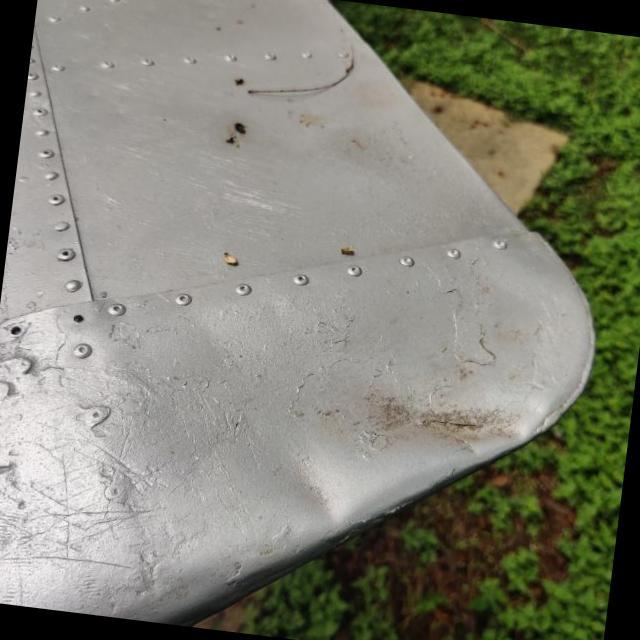Dent: (256, 425, 380, 558)
